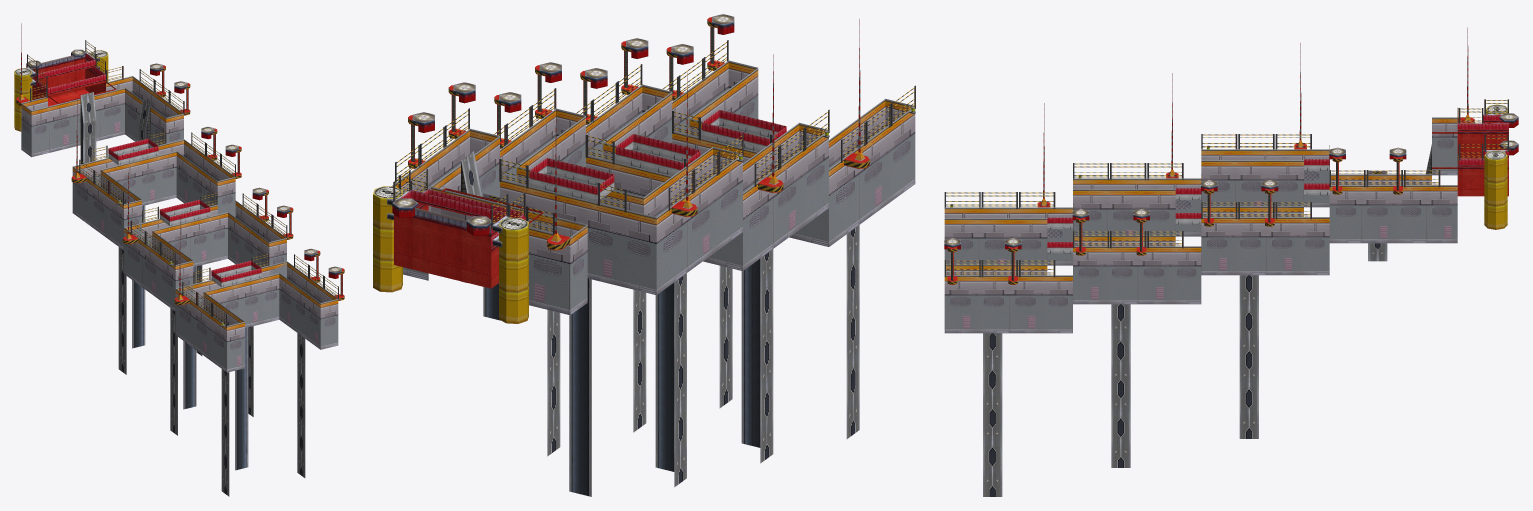
The picture shows the model from 3 angles, left to right: view 1: azimuth 30°, elevation 25°; view 2: azimuth 150°, elevation 25°; view 3: azimuth 270°, elevation 25°; orthographic projection. The views are drawn at different scales.
Parts seen in each view (by area): view 1: s13_on_13_1, s13_on_13_0, s13_on_13_15, s13_on_13_16, s13_on_13_10, s13_on_13_6, s13_on_13_2, s13_on_13_11, s13_on_13_17, s13_on_13_4, s13_on_13_8, s13_on_13_7 (+2 smaller); view 2: s13_on_13_1, s13_on_13_15, s13_on_13_0, s13_on_13_16, s13_on_13_2, s13_on_13_10, s13_on_13_6, s13_on_13_4, s13_on_13_17, s13_on_13_11, s13_on_13_8, s13_on_13_7 (+4 smaller); view 3: s13_on_13_1, s13_on_13_15, s13_on_13_0, s13_on_13_10, s13_on_13_2, s13_on_13_11, s13_on_13_6, s13_on_13_4, s13_on_13_8, s13_on_13_17, s13_on_13_19.
Part boxes in pixels (x1,y1,x2,y2): s13_on_13_1: (21,80,338,372); s13_on_13_0: (18,76,338,330); s13_on_13_15: (80,92,305,496); s13_on_13_16: (132,205,248,470); s13_on_13_10: (16,41,344,324); s13_on_13_6: (28,53,261,282); s13_on_13_2: (16,55,344,301); s13_on_13_11: (27,40,338,327); s13_on_13_17: (108,143,261,287); s13_on_13_4: (14,55,108,131); s13_on_13_8: (26,49,341,272); s13_on_13_7: (26,54,338,278); s13_on_13_1: (401,68,915,315); s13_on_13_15: (461,151,859,487); s13_on_13_0: (391,60,915,244); s13_on_13_16: (483,259,760,496); s13_on_13_2: (394,17,869,288); s13_on_13_10: (395,19,914,250); s13_on_13_6: (400,110,786,248); s13_on_13_4: (373,193,528,323); s13_on_13_17: (529,117,778,202); s13_on_13_11: (393,40,915,282); s13_on_13_8: (393,14,734,225); s13_on_13_7: (392,24,734,235); s13_on_13_1: (944,123,1457,333); s13_on_13_15: (983,144,1431,496); s13_on_13_0: (944,114,1470,280); s13_on_13_10: (946,100,1507,284); s13_on_13_2: (947,117,1508,281); s13_on_13_11: (944,99,1508,277); s13_on_13_6: (1047,114,1508,247); s13_on_13_4: (1484,110,1507,229); s13_on_13_8: (944,113,1518,245); s13_on_13_17: (1047,165,1329,253); s13_on_13_19: (951,162,1399,280).
Size of the model in its own units: 591 by 1475 by 1791.
Materials: 21 (21 with a texture image).
